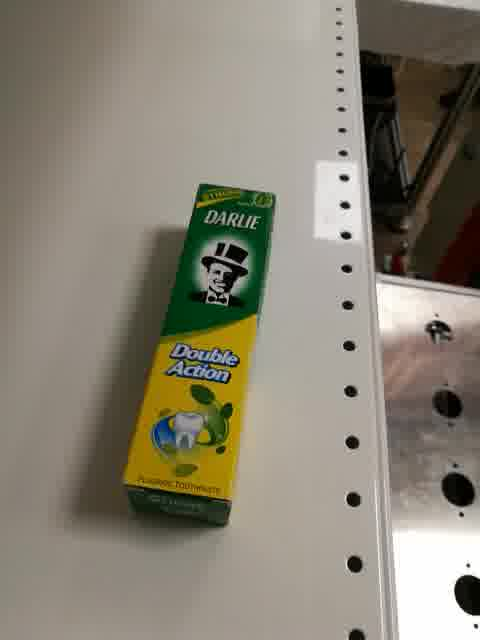toothpaste: (120, 183, 278, 529)
